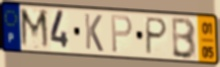4: (49, 8, 72, 53)
B: (171, 17, 198, 61)
K: (83, 12, 105, 53)
M: (19, 7, 52, 52)
P: (144, 16, 169, 56), (110, 14, 134, 55)
